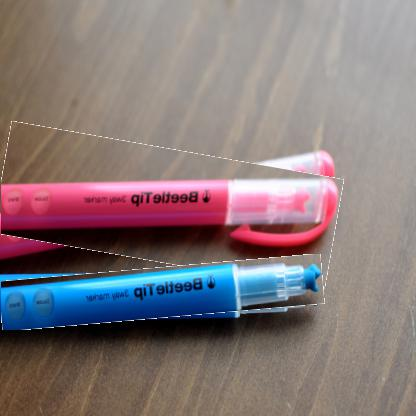Pen: (1, 135, 341, 277), (1, 261, 324, 325)
